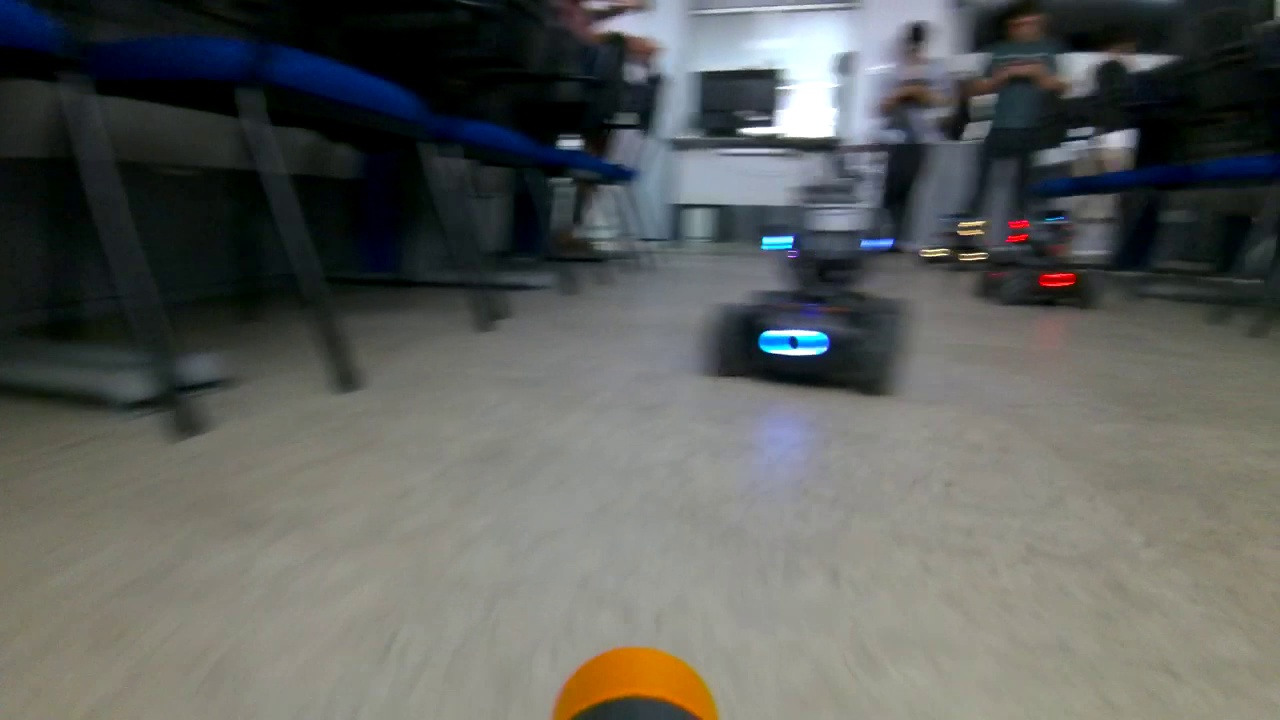robot: (703, 172, 911, 407)
